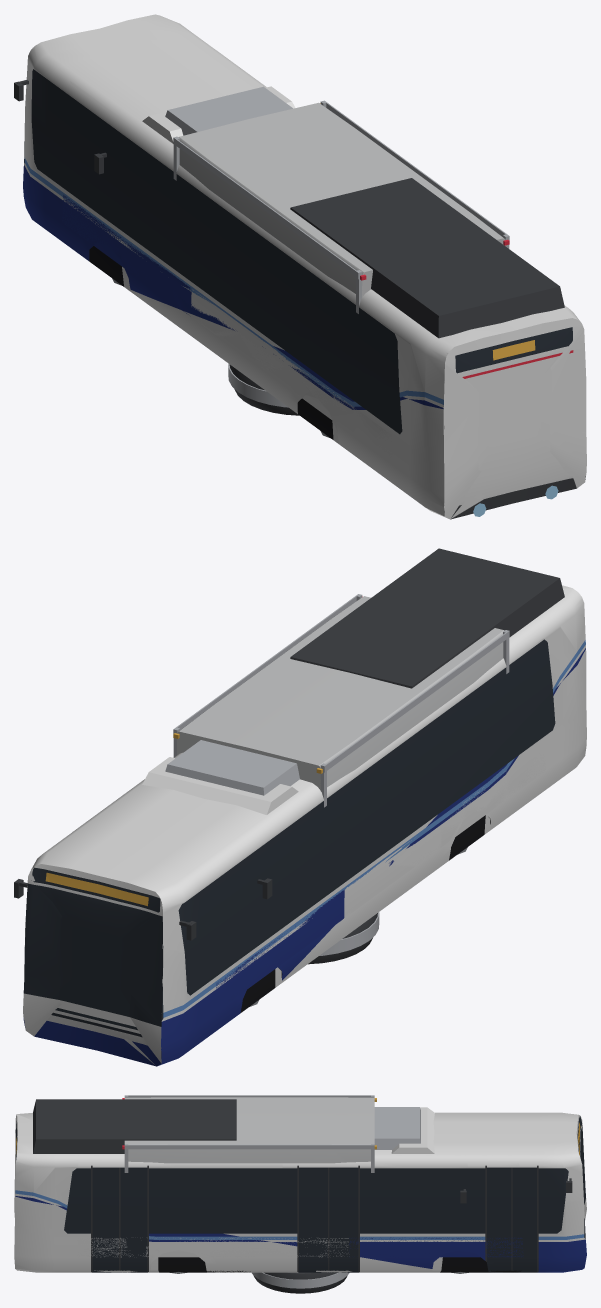
Rendered from vehicles.glb.
3 views of the same model, one above another, from view 1: azimuth 30°, elevation 25°; view 2: azimuth 150°, elevation 25°; view 3: azimuth 270°, elevation 25° (orthographic). The views are drawn at different scales.
Visible parts, largest first — view 1: bus_body, truck_body, bus_far, truck_far, fan_body, bus_lights; view 2: bus_body, truck_body, bus_far, truck_far, bus_lights, fan_body; view 3: bus_body, truck_body, bus_far, fan_body, truck_far.
Part boxes in pixels (bbox=[...]): bus_body: bbox=[14, 14, 586, 519]; truck_body: bbox=[94, 86, 509, 313]; bus_far: bbox=[32, 47, 586, 519]; truck_far: bbox=[195, 120, 504, 296]; fan_body: bbox=[228, 363, 299, 415]; bus_lights: bbox=[462, 340, 573, 516]; bus_body: bbox=[14, 548, 586, 1066]; truck_body: bbox=[142, 594, 509, 899]; bus_far: bbox=[23, 594, 580, 1065]; truck_far: bbox=[177, 628, 503, 789]; bus_lights: bbox=[45, 872, 148, 1033]; fan_body: bbox=[308, 912, 379, 964]; bus_body: bbox=[14, 1099, 586, 1273]; truck_body: bbox=[124, 1095, 466, 1203]; bus_far: bbox=[14, 1117, 586, 1272]; fan_body: bbox=[252, 1272, 349, 1293]; truck_far: bbox=[124, 1097, 374, 1143].
Size of the model in its own units: 2.95 by 3.65 by 12.2.
